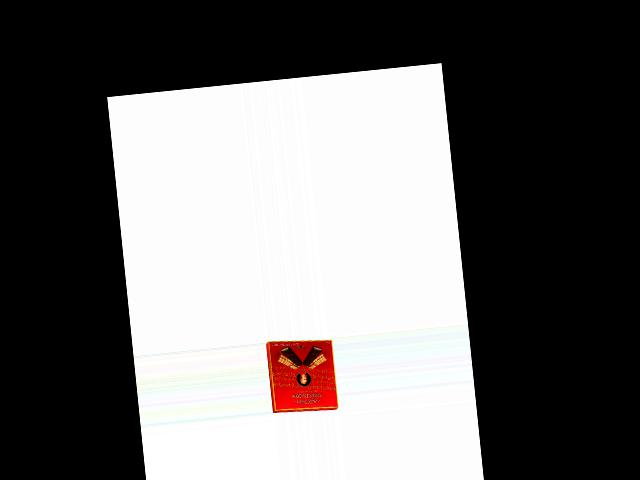chocolate: (265, 333, 340, 414)
